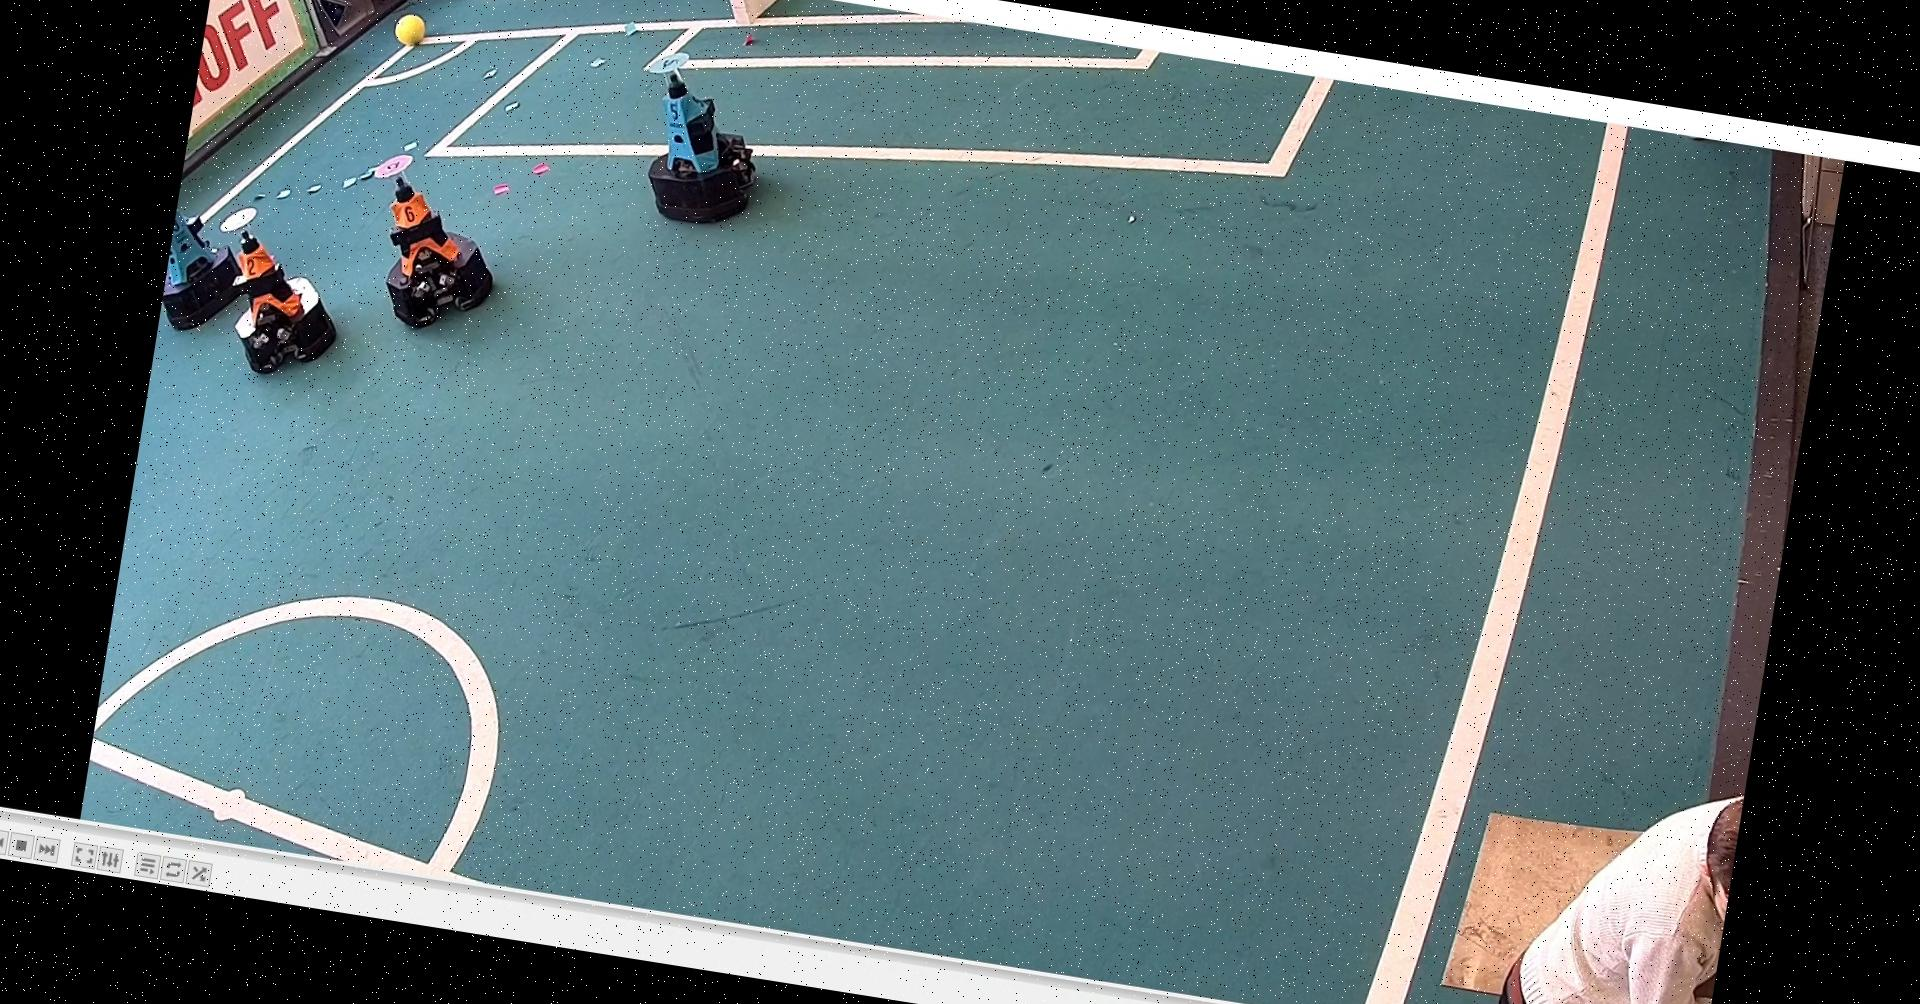Ball: (399, 10, 438, 48)
Team_Blue: (622, 38, 787, 237), (163, 195, 268, 339)
Team_Red: (345, 138, 516, 338), (211, 202, 356, 380)
